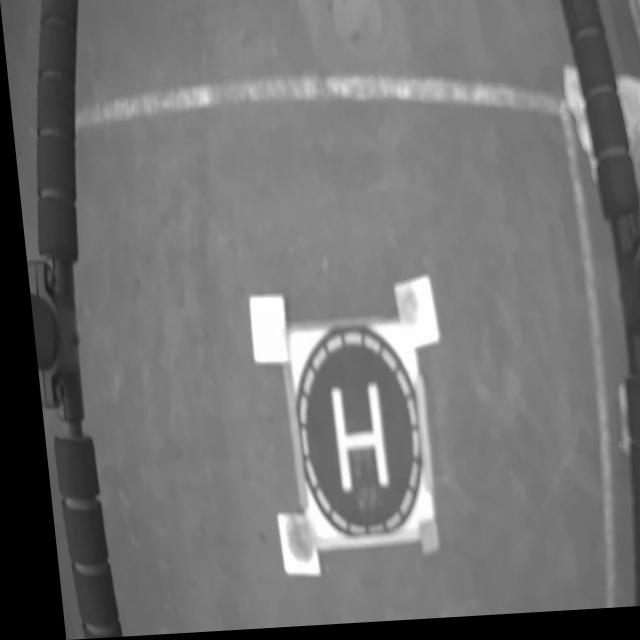Helipad: (322, 384, 380, 496)
